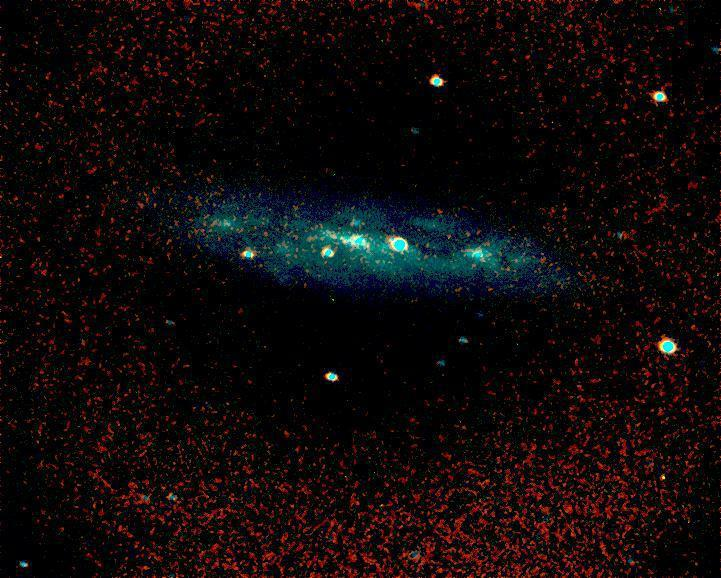star: (340, 221, 370, 251)
